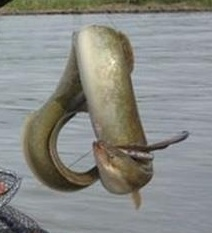Anguilla anguilla: (20, 20, 192, 213)
